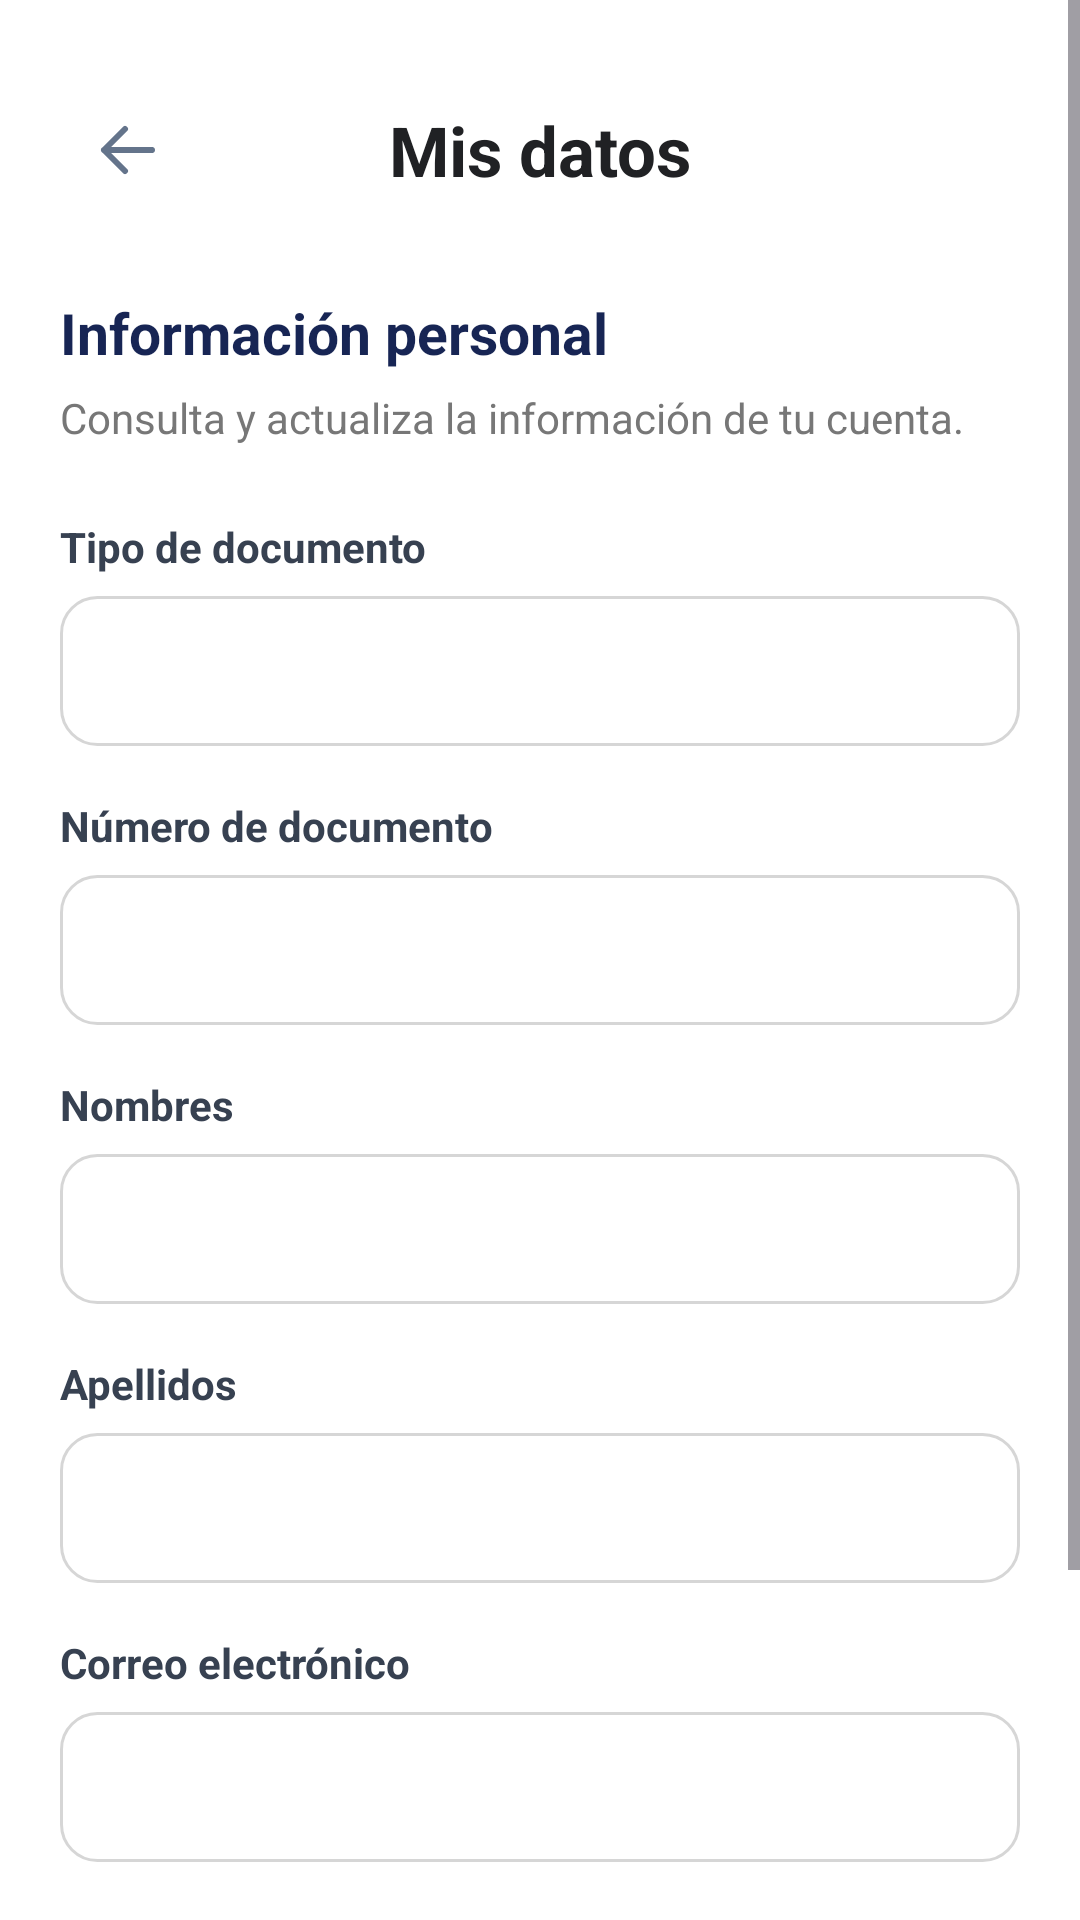

Where icons sit on this 1080px×1920px app screen, as (x1, y1, x2, y2):
Volver: (101, 126, 155, 174)
